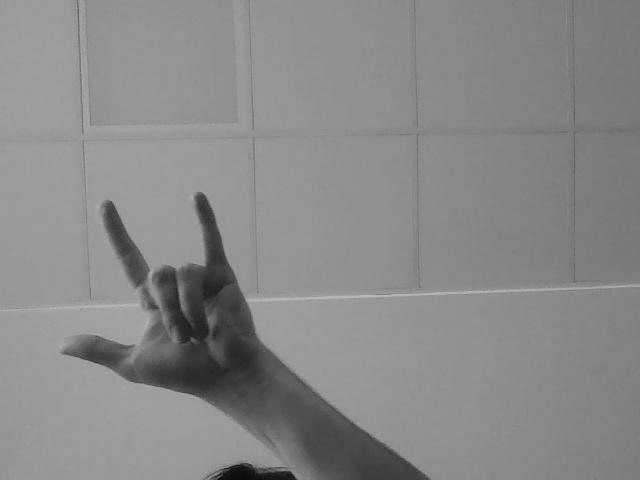I_Love_You: (57, 174, 331, 404)
